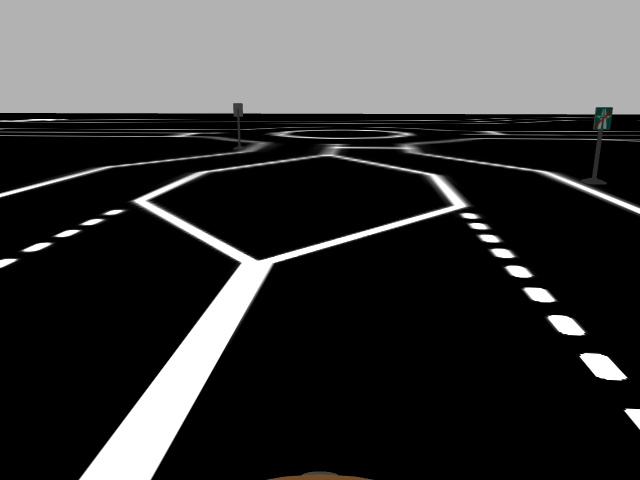leave_highway: (590, 106, 614, 131)
